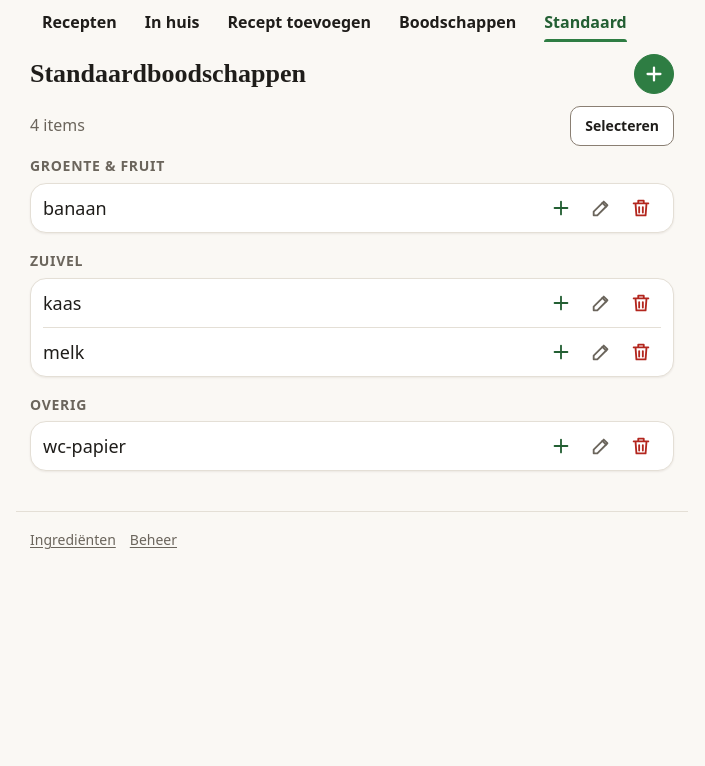
it: StandardItemsView › toevoegen › het formulier is standaard dicht en gaat open via +, met focus op Naam
The image size is (705, 766).
Click the button named "Item toevoegen" at {"x": 654, "y": 74}, box [634,54,674,94]
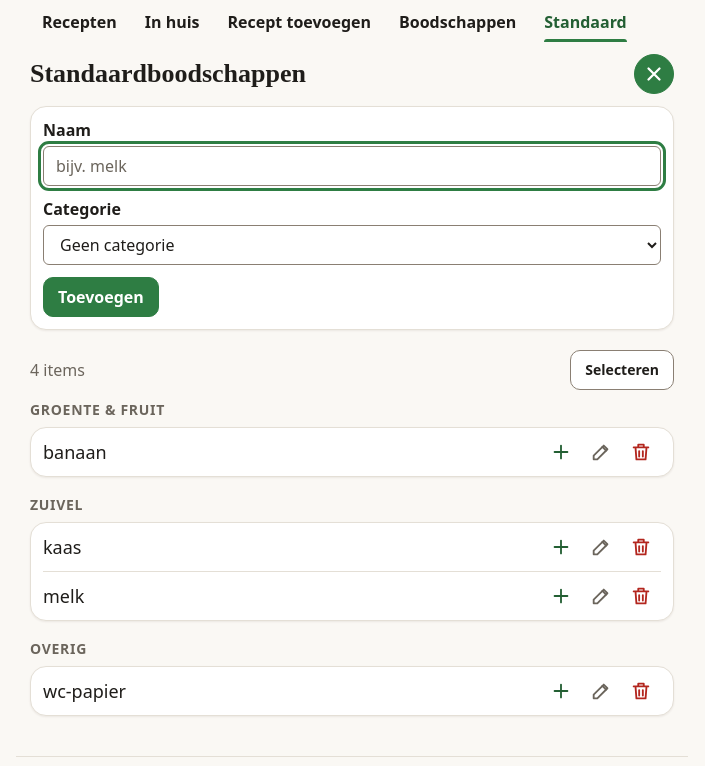
Expected: the form is shown, [43,119,661,317]
